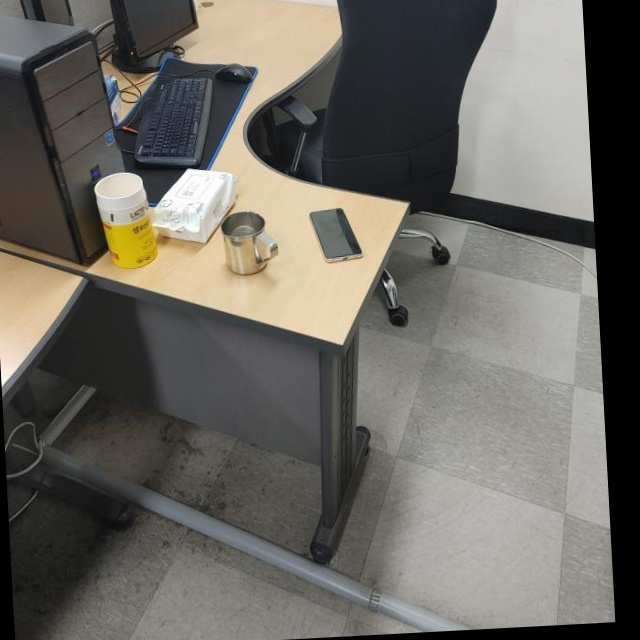cup: (219, 206, 279, 277)
phone: (308, 204, 365, 267)
